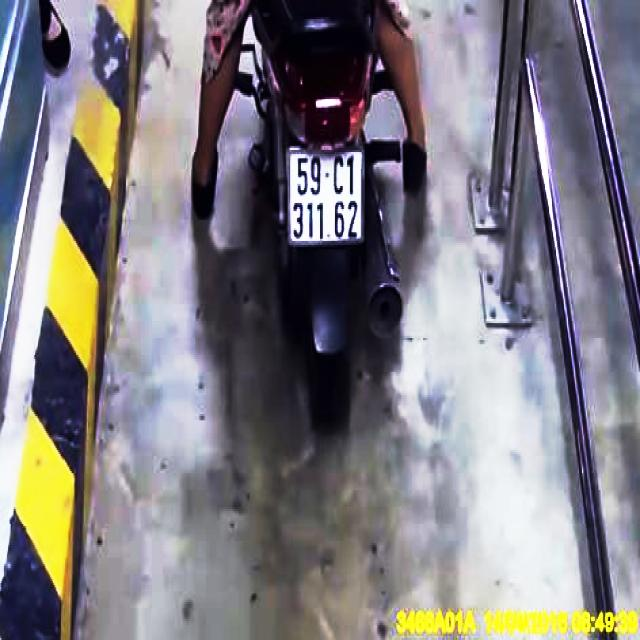license_plate: (290, 150, 365, 243)
